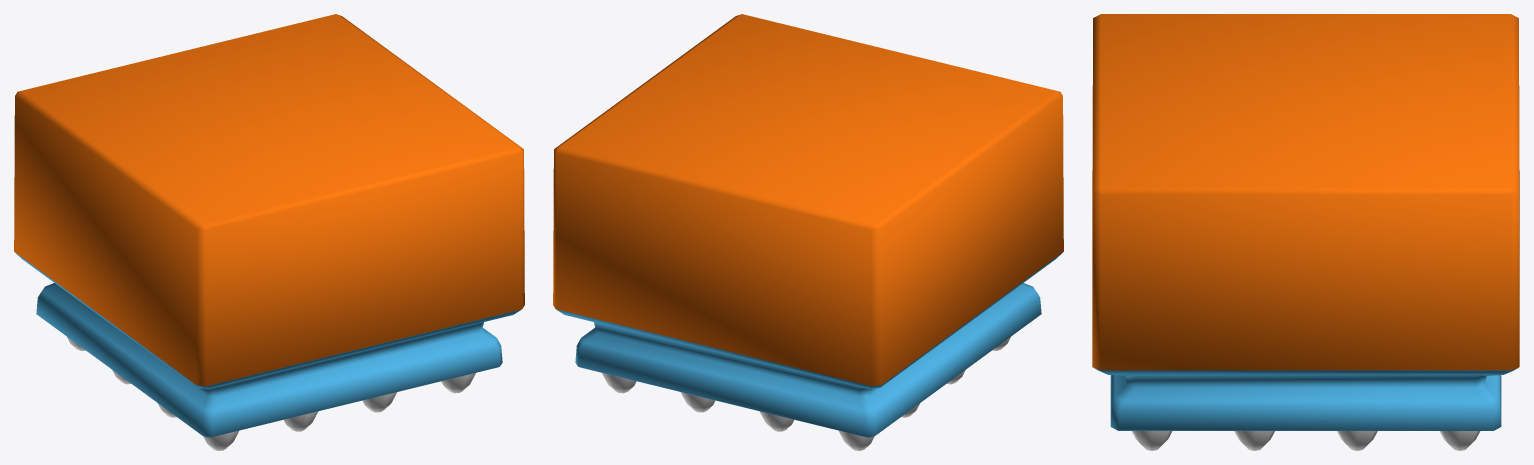
Rendered from Crasher_03.fbx.
The picture shows the model from 3 angles, left to right: view 1: azimuth 30°, elevation 25°; view 2: azimuth 150°, elevation 25°; view 3: azimuth 270°, elevation 25°; orthographic projection. The views are drawn at different scales.
Parts seen in each view (by area): view 1: Obstacle_Crasher_03; view 2: Obstacle_Crasher_03; view 3: Obstacle_Crasher_03.
Boxes of the visible parts, x1=… form: Obstacle_Crasher_03: x1=14, y1=14, x2=524, y2=450; Obstacle_Crasher_03: x1=553, y1=14, x2=1063, y2=450; Obstacle_Crasher_03: x1=1092, y1=14, x2=1519, y2=450.
Bounding box in the file's own units: 102 × 74.29 × 102.
Materials: 1 (1 with a texture image).
